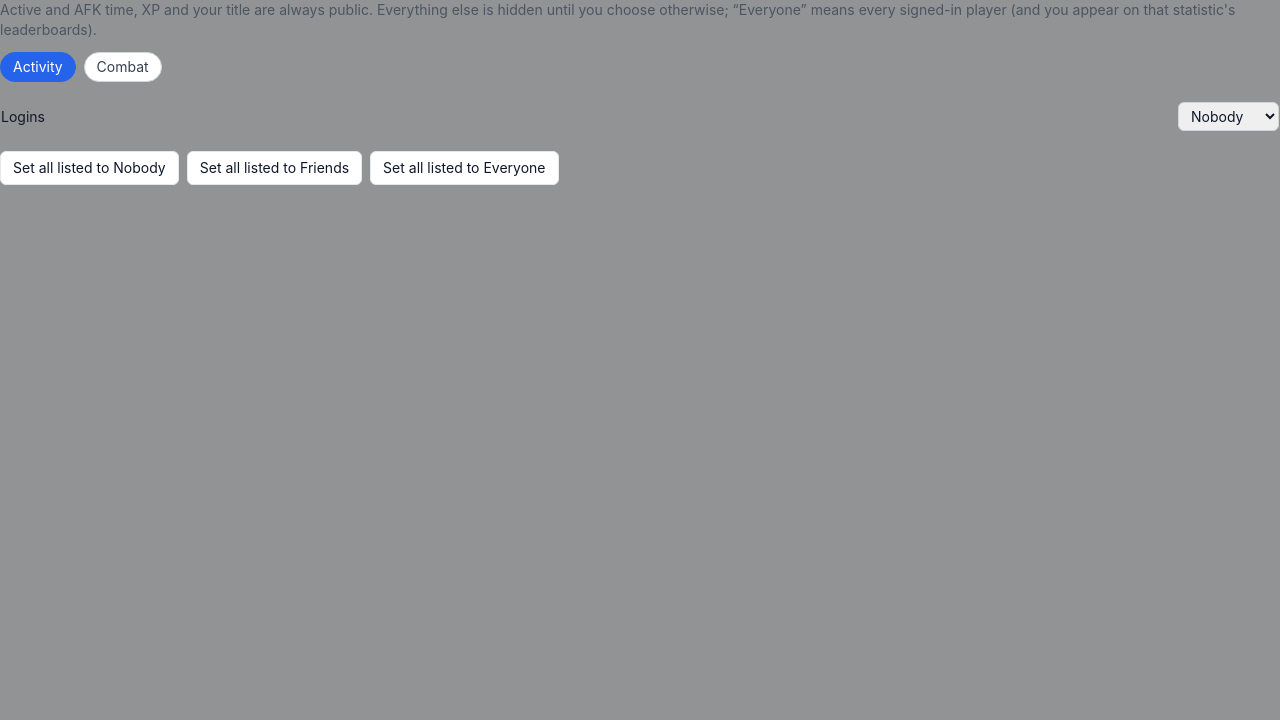
Test: StatisticsVisibilitySettings › previews a group action and applies it atomically on Confirm
Click the tab "Combat": (123, 67) [84,52,162,82]
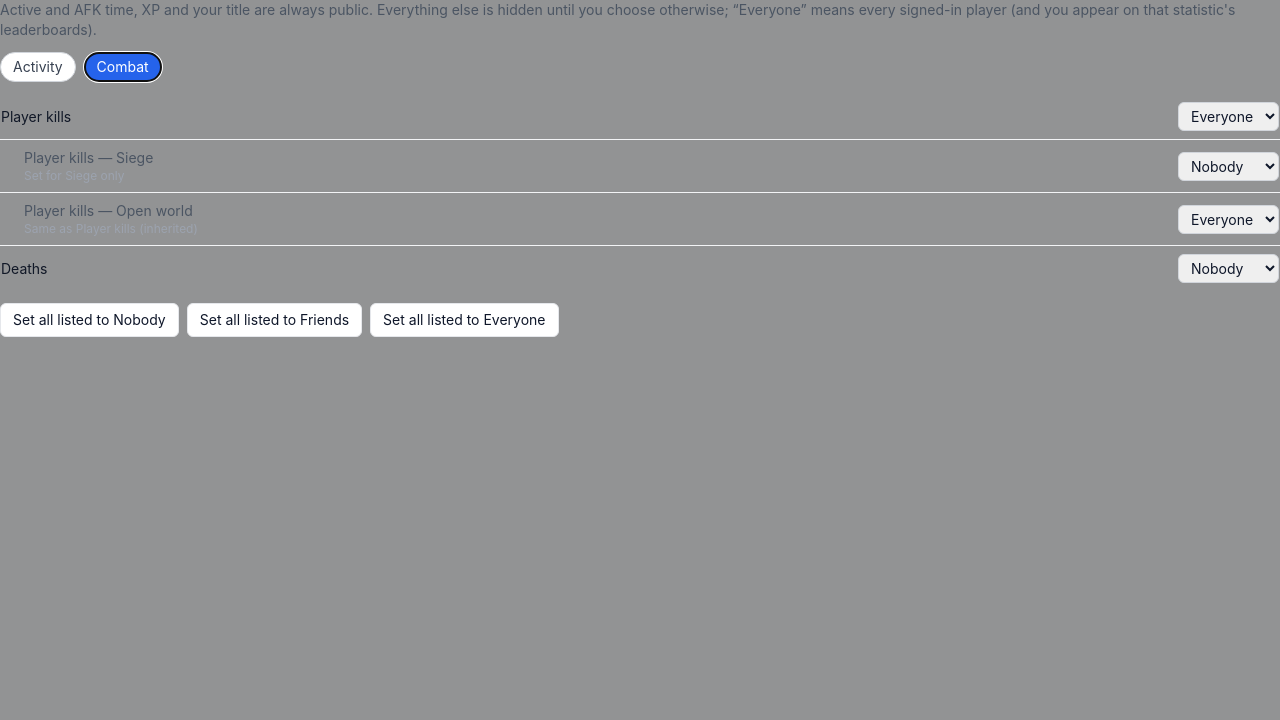
Click the button "Set all listed to Everyone": (464, 320) [370,303,558,337]
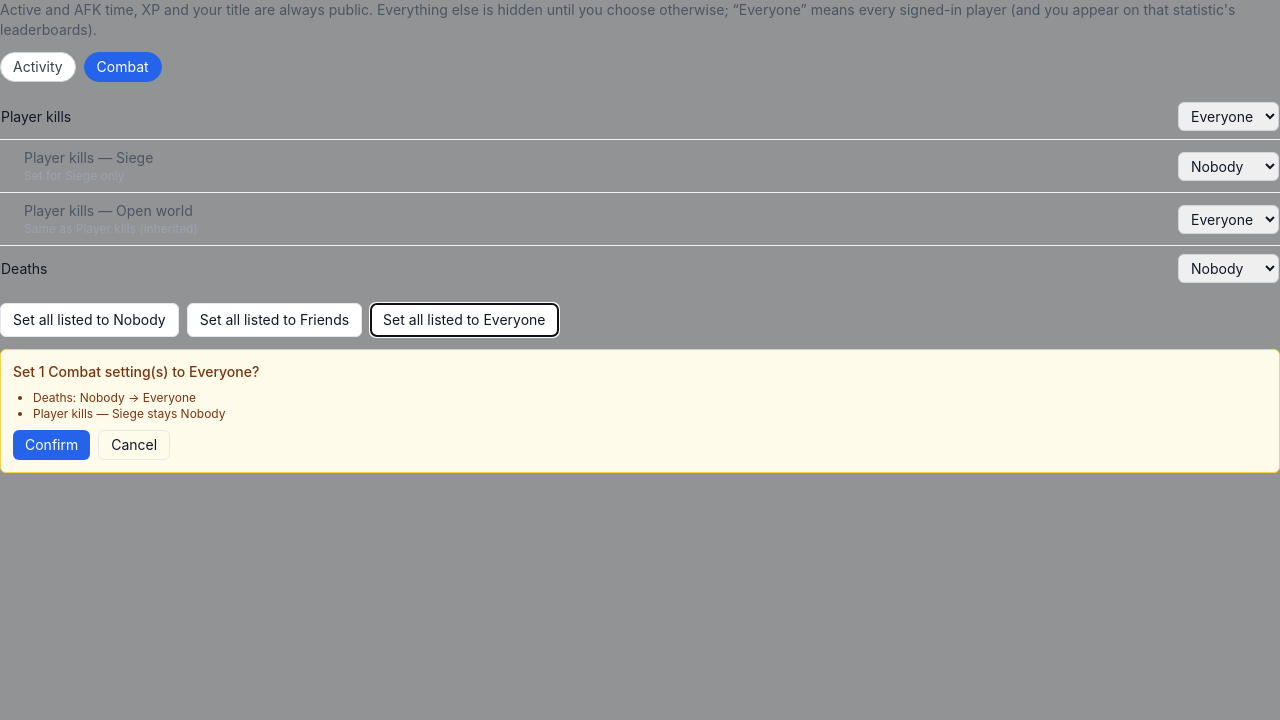
Expected: the text "Set 1 Combat setting(s) to Everyone?" is shown, [13,363,259,380]
Expected: the list item "Deaths: Nobody → Everyone" is shown, [33,390,196,405]
Expected: the list item "Player kills — Siege stays Nobody" is shown, [33,406,226,421]
Click the button "Confirm": (52, 445) [13,430,90,460]
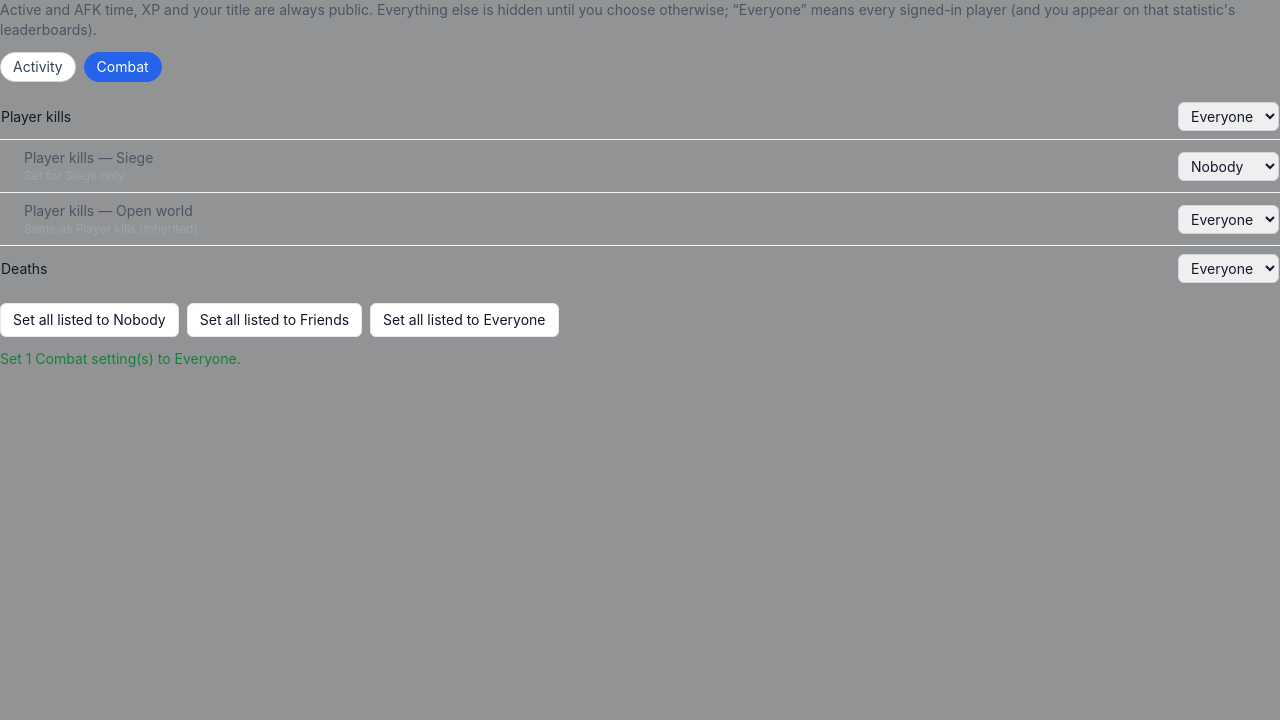
Expected: the dialog is gone
